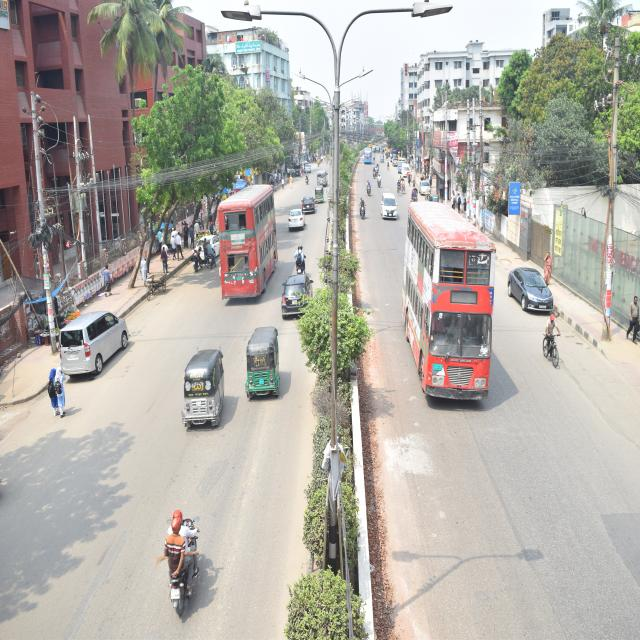bus: (403, 195, 502, 443), (214, 178, 282, 315), (362, 142, 376, 168)
car: (48, 309, 144, 406), (500, 248, 575, 330), (270, 258, 324, 327), (182, 218, 226, 275), (288, 206, 320, 254), (301, 194, 320, 224), (398, 154, 416, 183)
microbus: (379, 187, 409, 230), (312, 162, 335, 202)
motorbike: (158, 497, 212, 633), (282, 229, 306, 282), (181, 233, 203, 288), (200, 227, 223, 276), (352, 193, 370, 237), (359, 175, 376, 211), (302, 168, 312, 198), (375, 169, 384, 193), (374, 159, 382, 179)
pickup-van: (286, 157, 306, 188)
